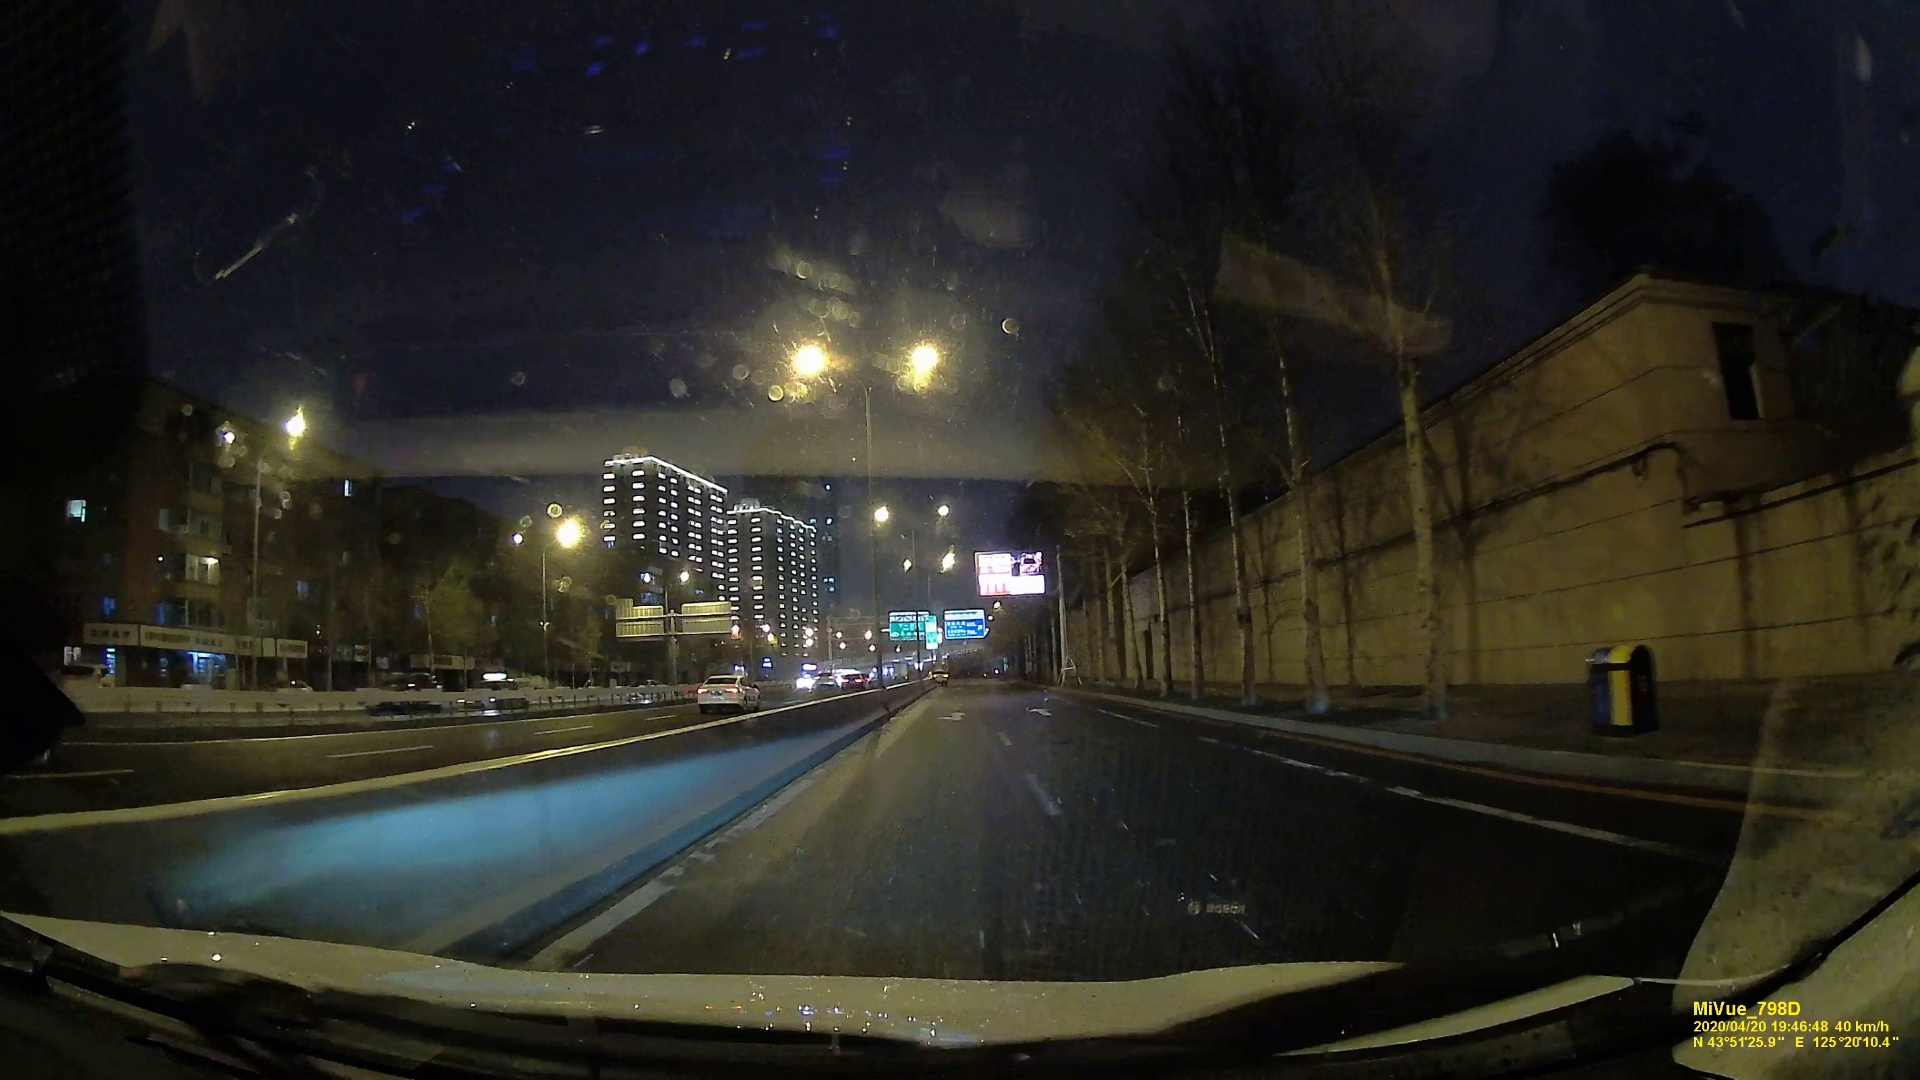traffic_sign: (889, 611, 931, 637), (944, 609, 982, 636)
vehicle: (696, 674, 760, 713)
